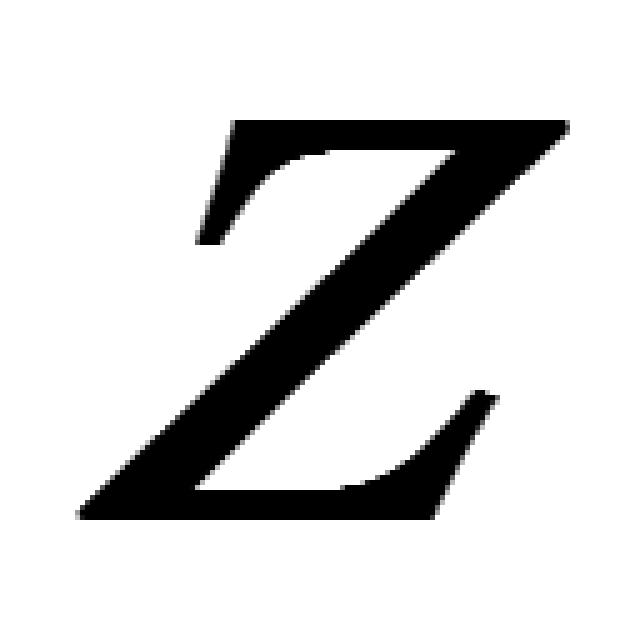Z: (70, 110, 570, 525)
